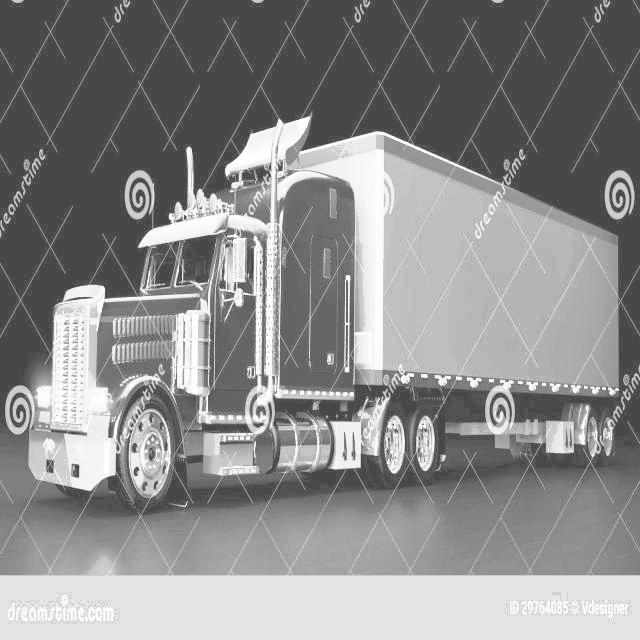Truck: (28, 114, 623, 513)
